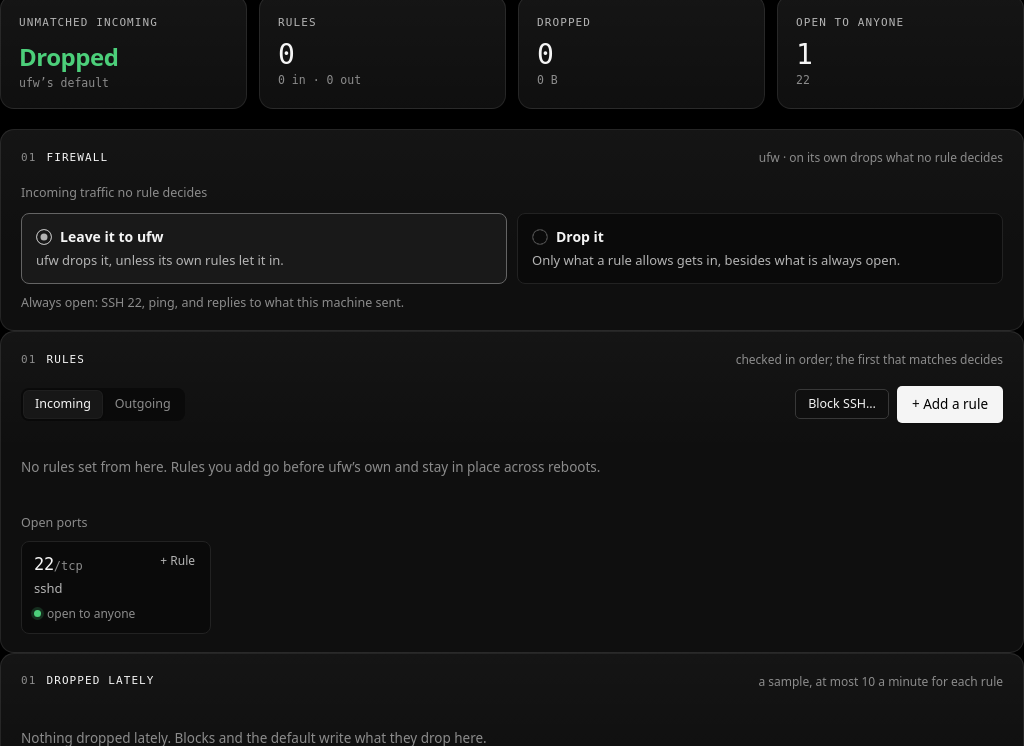
Test: Firewall manager › Block SSH › shows a refused block as the firewall said it, and keeps the allow
Click the button "Block SSH…" at coordinates (842, 404), box [795, 390, 889, 420]
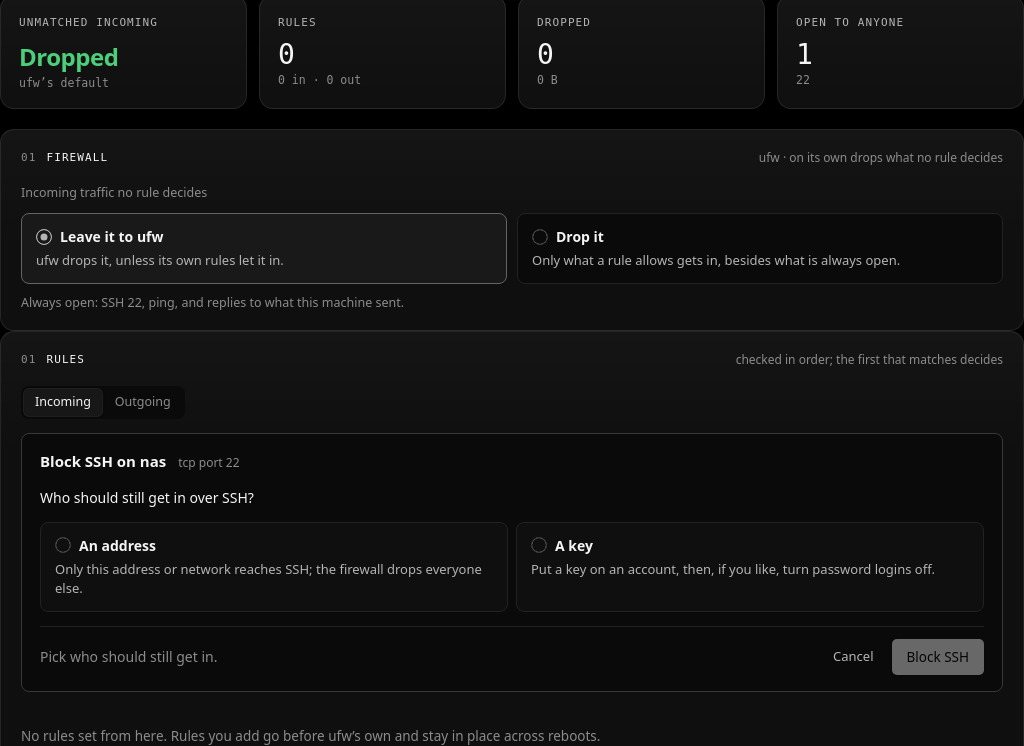
Click the radio button labelled "An address" at coordinates (274, 567), box [40, 522, 508, 612]
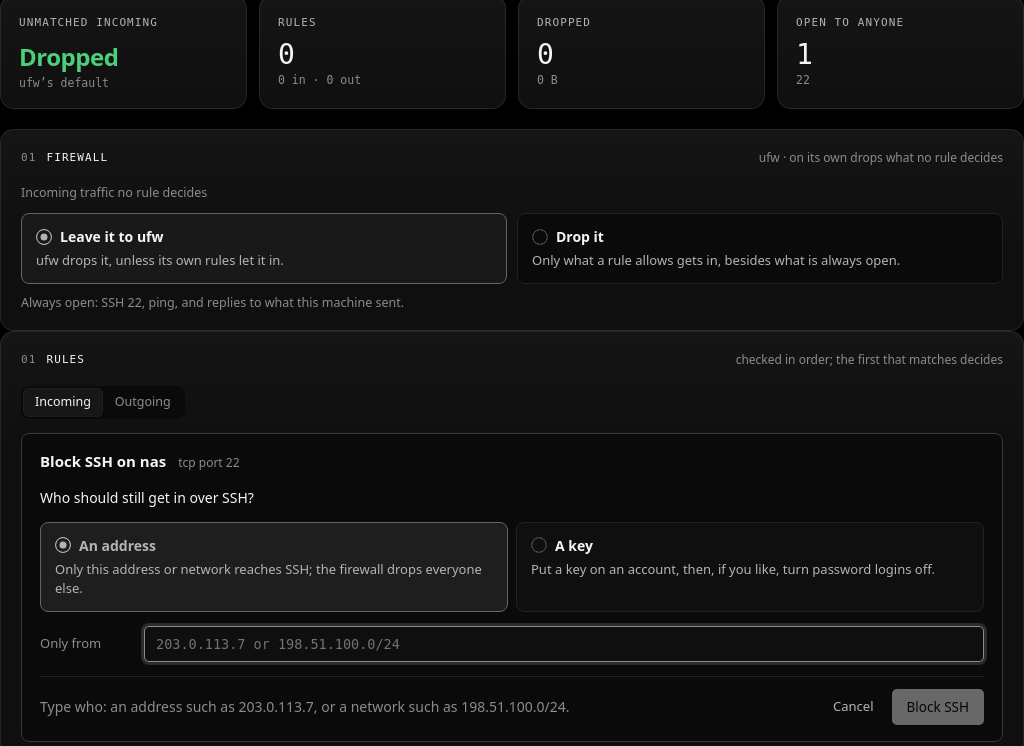
Type "203.0.113.7" into the field named "Address or network allowed to reach SSH" at coordinates (564, 644), box [144, 626, 984, 662]
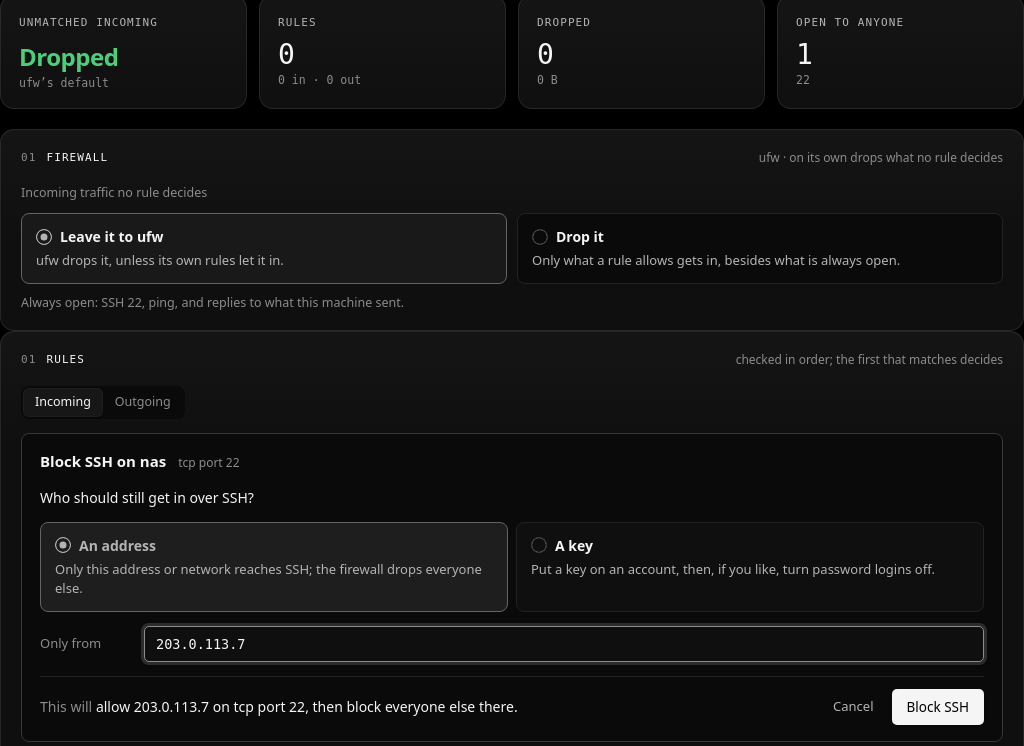
Click the button "Block SSH" at coordinates (938, 707), box [892, 689, 984, 725]
(page scrolled)
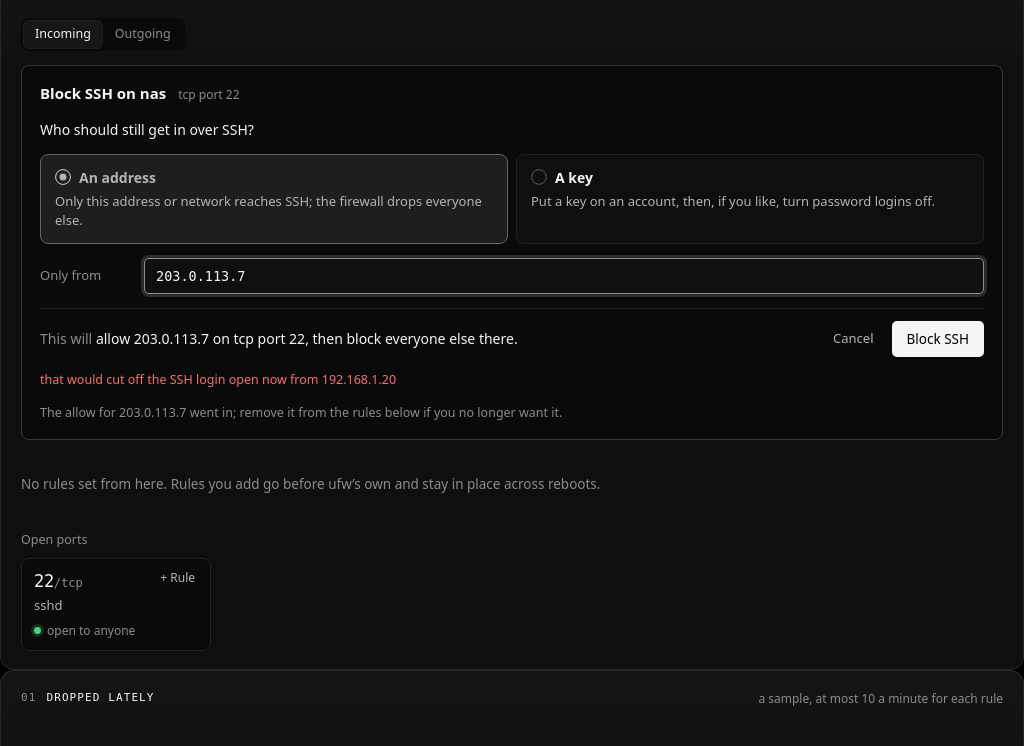
Now the text "that would cut off the SSH login open now from 192.168.1.20" is shown, box [40, 371, 396, 388]
Now the text "The allow for 203.0.113.7 went in" is shown, box [40, 404, 562, 421]
